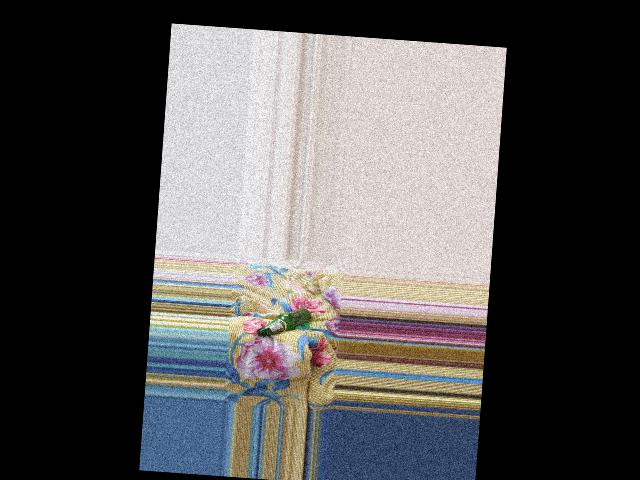beer: (256, 305, 311, 341)
